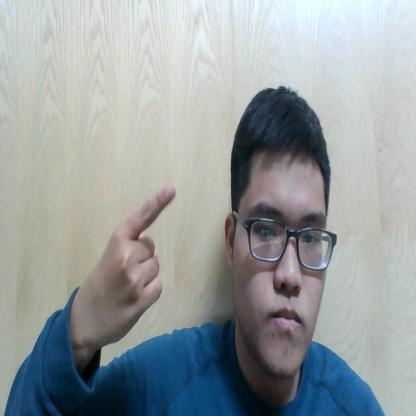left: (77, 181, 186, 348)
